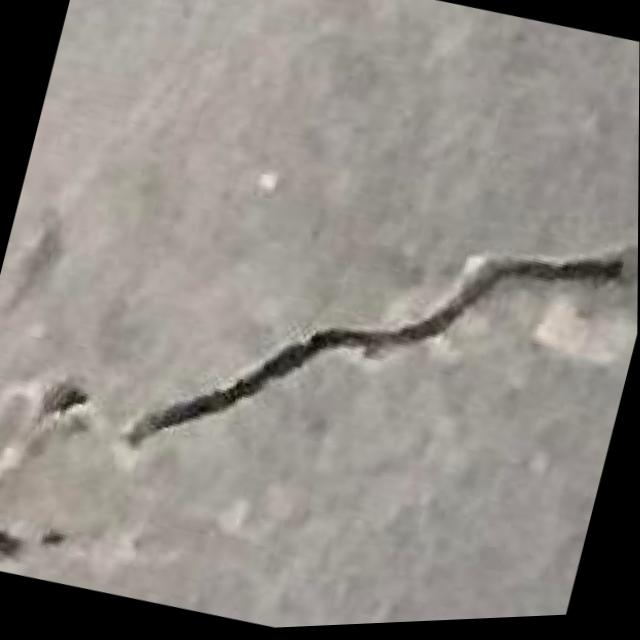Crack: (0, 72, 639, 640)
